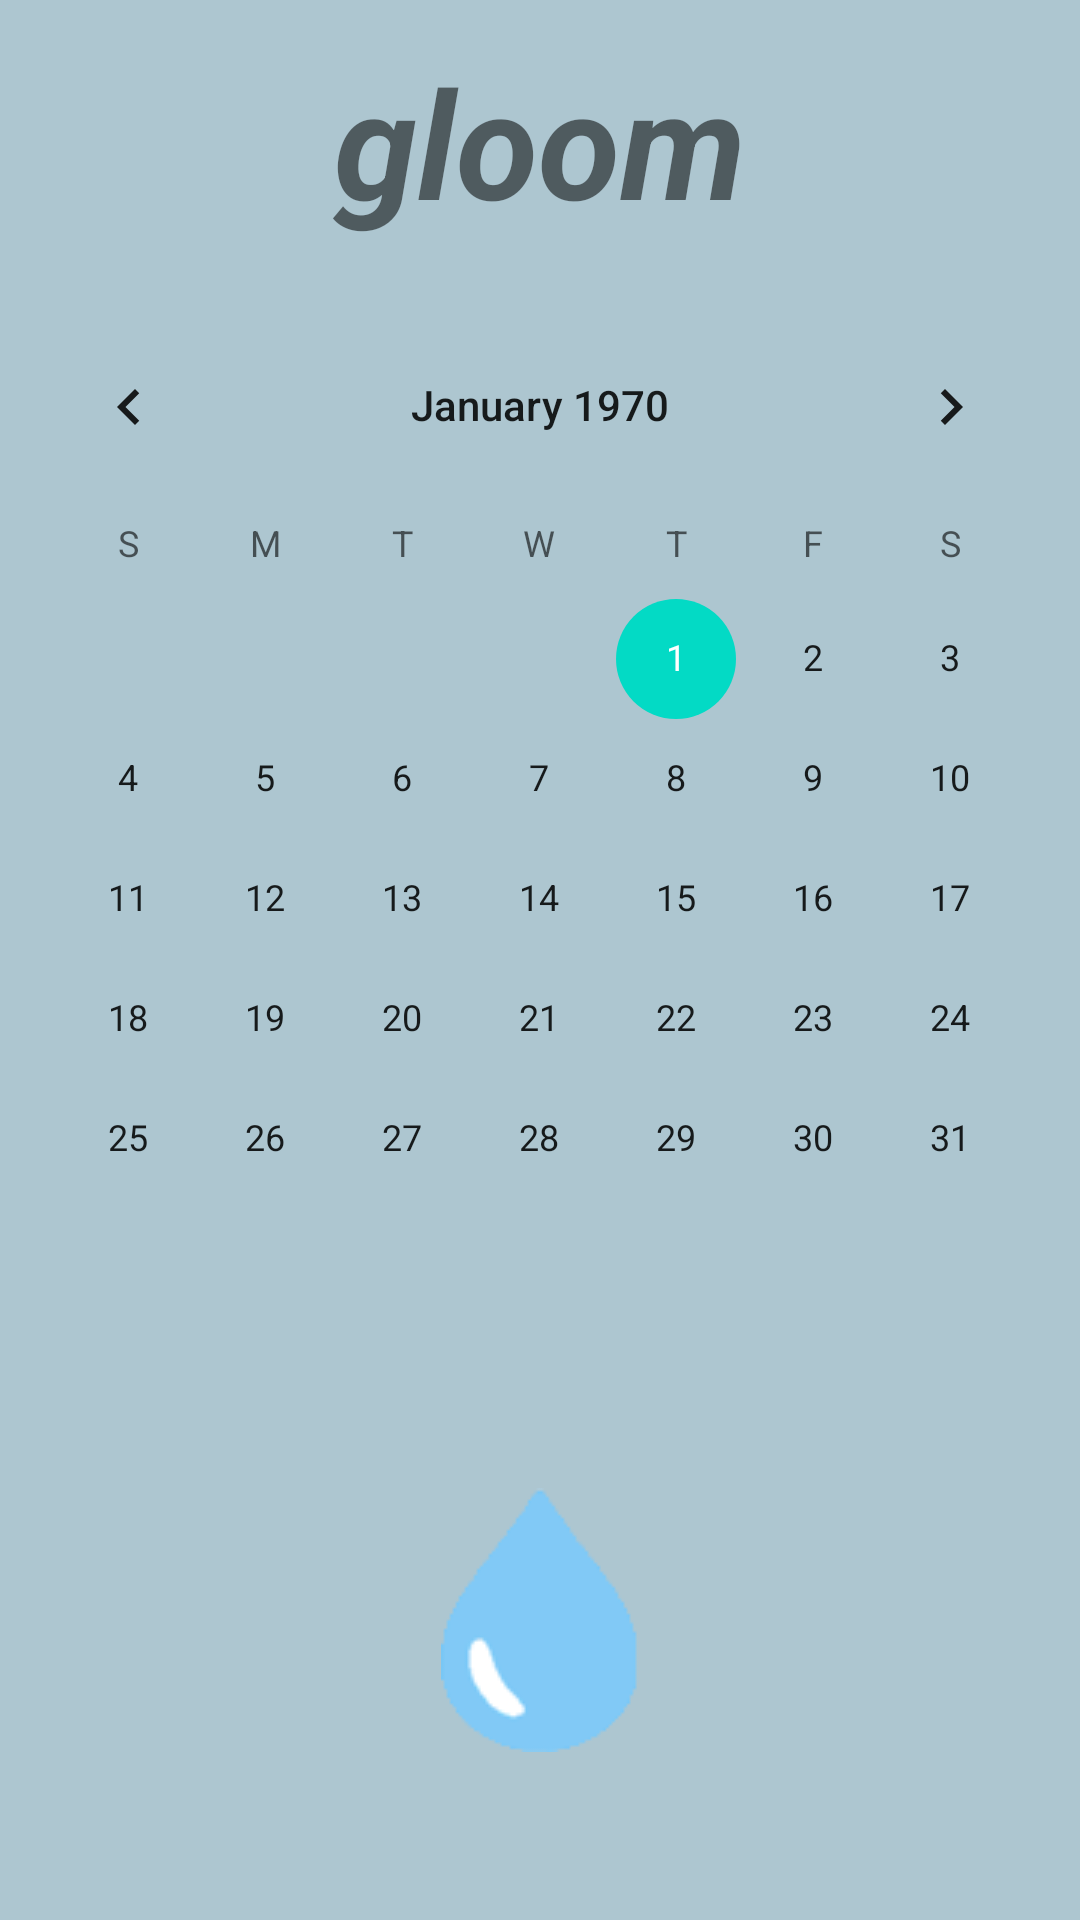

Icons on this 1080 × 1920 Android screen, each with its box as Rect(x1, y1, x2, y2):
water: Rect(441, 1491, 636, 1752)
